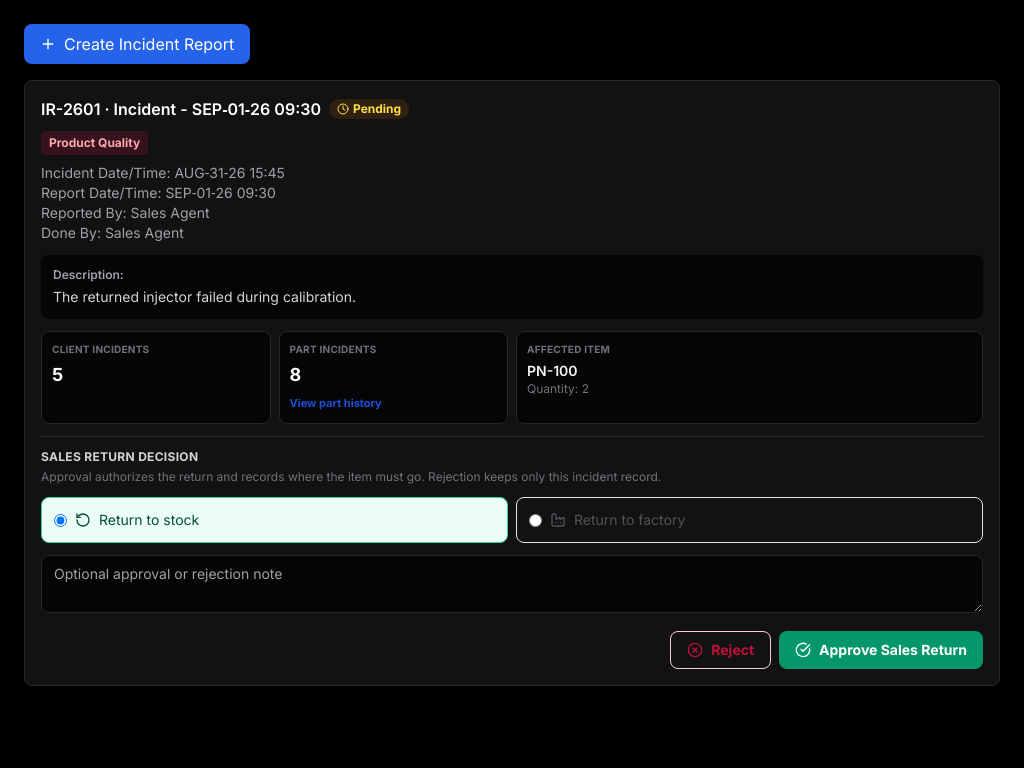
Test case: IncidentReportTab approval workflow › shows review API errors and does not hide the action panel
Click the button "Approve Sales Return": point(881, 650) [779,631,983,669]
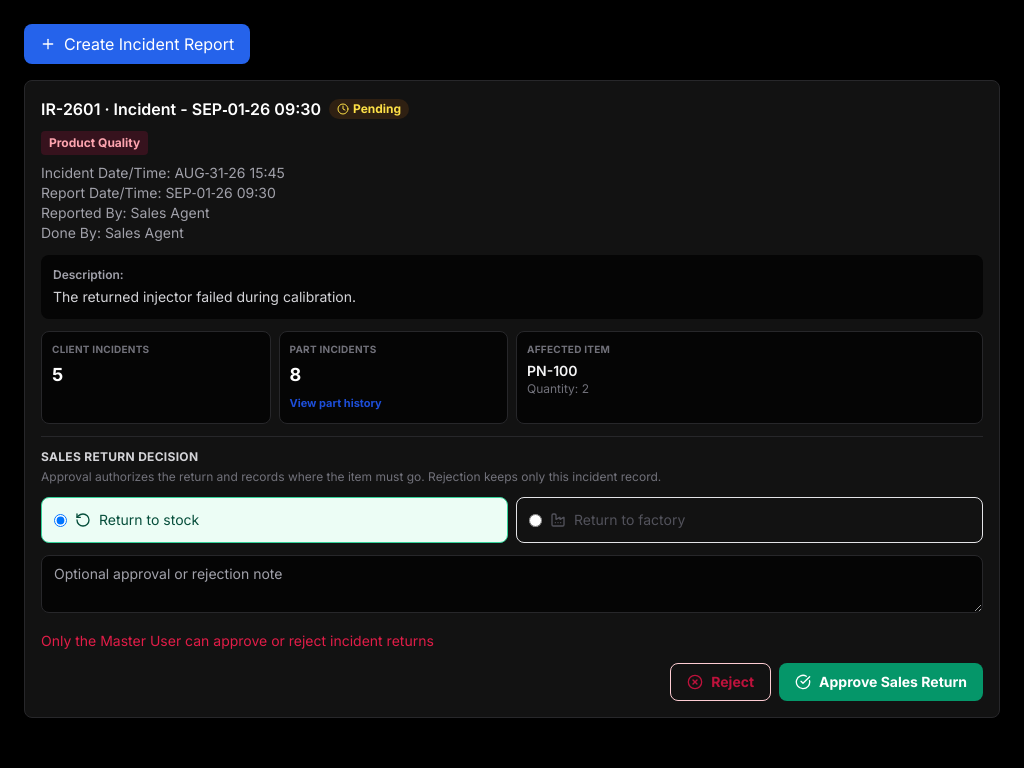
Expected: the button "Approve Sales Return" is shown, [779,663,983,701]
Now the message reads "Only the Master User can approve or reject incident returns", box [41,632,434,649]
